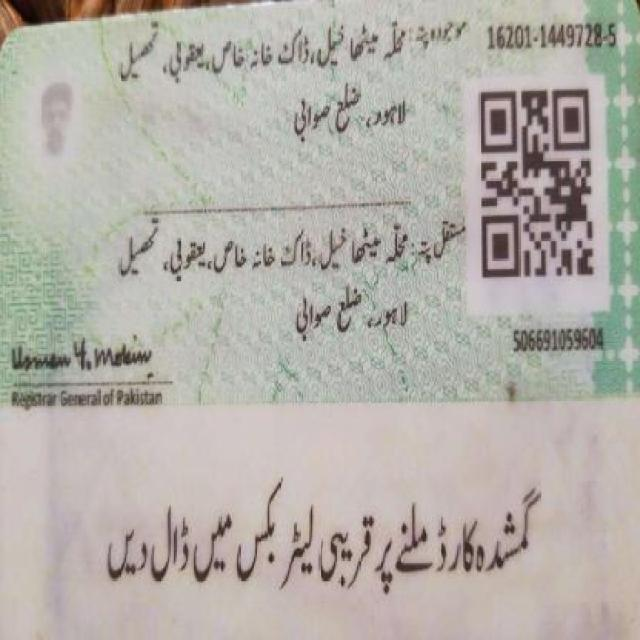Back: (6, 11, 634, 622)
